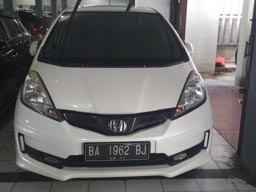plat: (84, 143, 147, 155)
